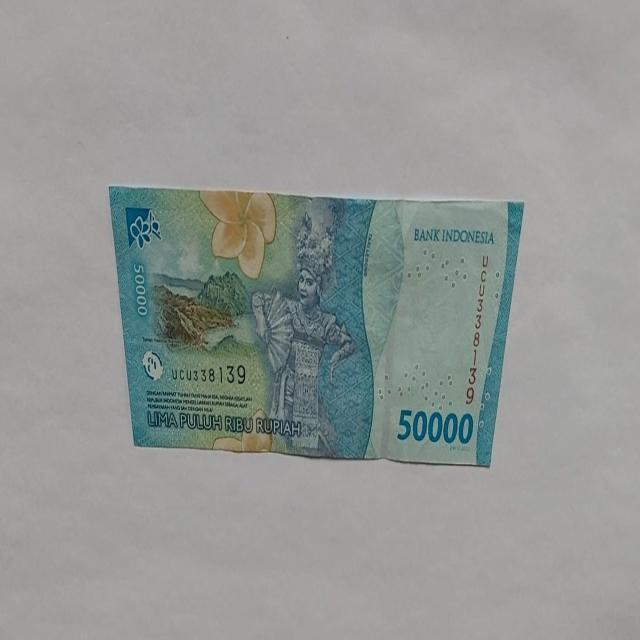lima puluh ribu rupiah: (108, 185, 524, 468), (412, 224, 495, 246)
